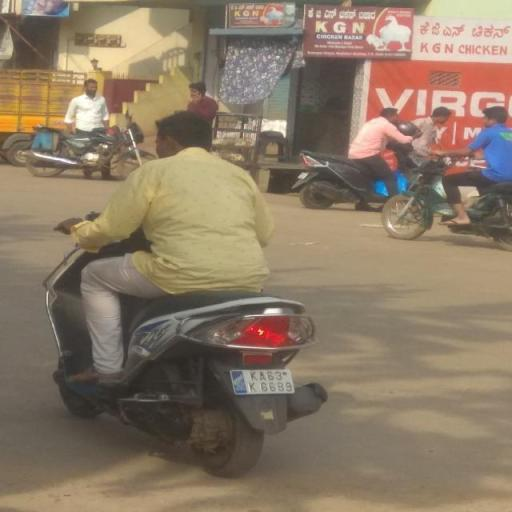bike: (39, 108, 332, 474)
numberplate: (229, 367, 295, 396)
withouthelmet: (158, 114, 209, 150)
